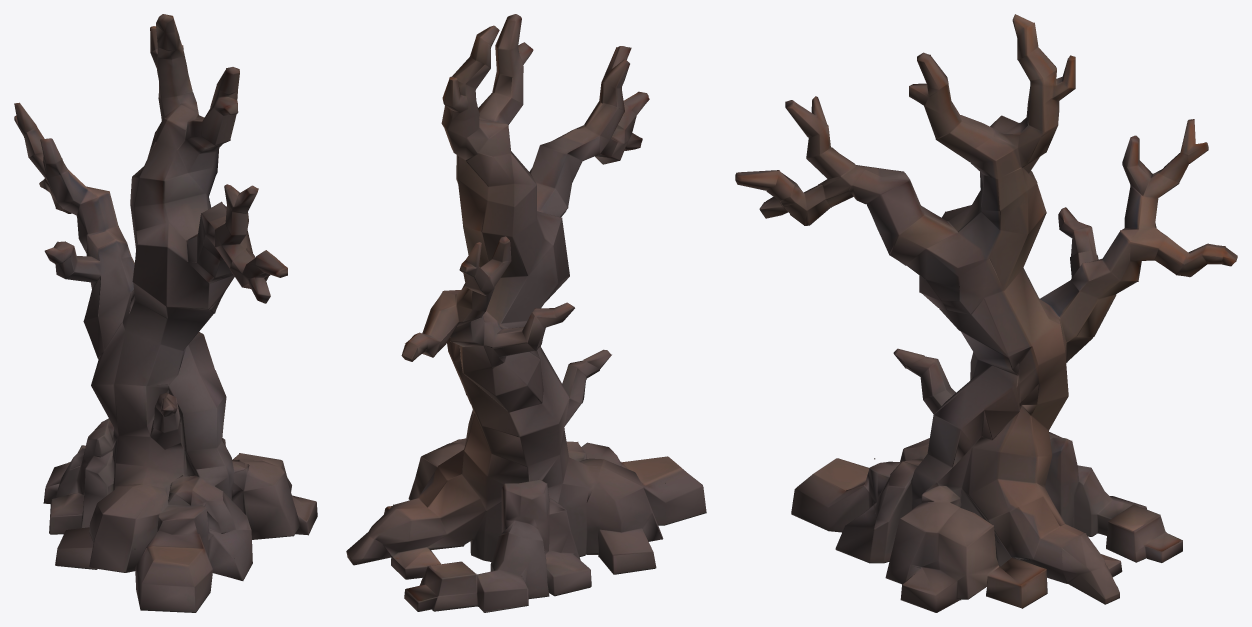
The model's file is dead_tree.glb.
The picture shows the model from 3 angles, left to right: view 1: azimuth 30°, elevation 25°; view 2: azimuth 150°, elevation 25°; view 3: azimuth 270°, elevation 25°; orthographic projection. The views are drawn at different scales.
Parts seen in each view (by area): view 1: tripo_node_cabf1c07-dc22-4e83-8c9f-1f59ab1ca413; view 2: tripo_node_cabf1c07-dc22-4e83-8c9f-1f59ab1ca413; view 3: tripo_node_cabf1c07-dc22-4e83-8c9f-1f59ab1ca413.
Boxes of the visible parts, box(x1,y1,x2,y2) form: tripo_node_cabf1c07-dc22-4e83-8c9f-1f59ab1ca413: box(14, 14, 317, 612); tripo_node_cabf1c07-dc22-4e83-8c9f-1f59ab1ca413: box(346, 14, 706, 612); tripo_node_cabf1c07-dc22-4e83-8c9f-1f59ab1ca413: box(735, 14, 1237, 612).
Size of the model in its own units: 0.5147 by 1 by 0.8434.
Materials: 1 (1 with a texture image).
